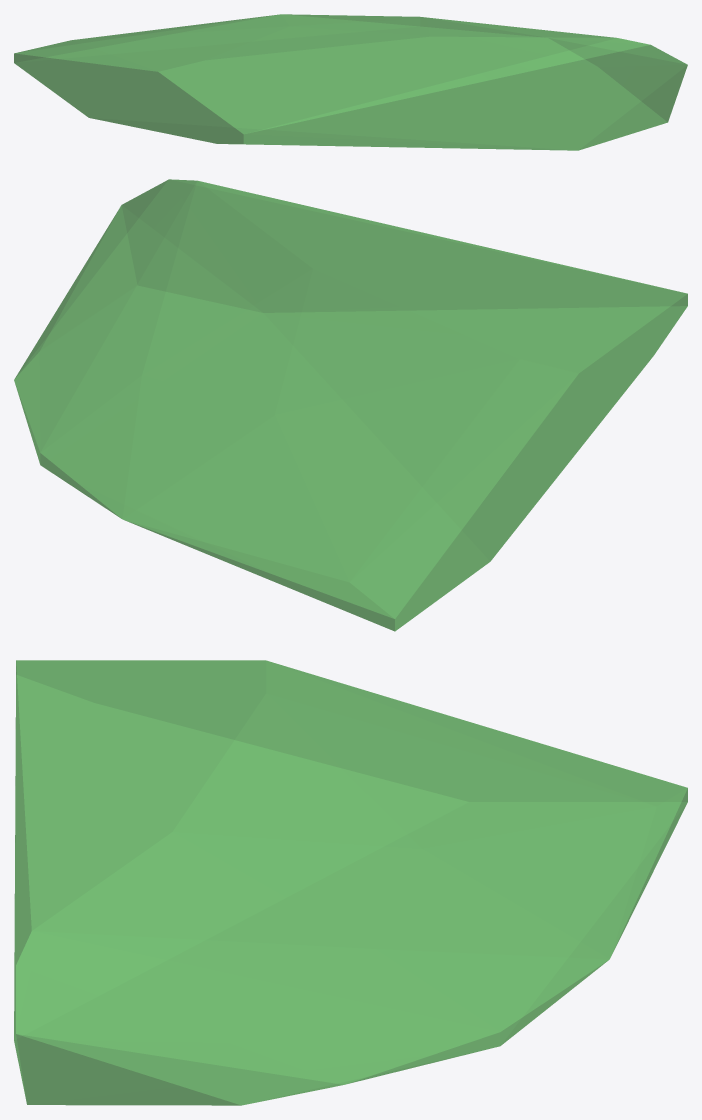
3 renders of one model, top to bottom at view 1: azimuth 30°, elevation 25°; view 2: azimuth 150°, elevation 25°; view 3: azimuth 270°, elevation 25°, orthographic. The views are drawn at different scales.
Parts seen in each view (by area): view 1: Shape_IndexedFaceSet.091_Shape_IndexedFaceSet.520; view 2: Shape_IndexedFaceSet.091_Shape_IndexedFaceSet.520; view 3: Shape_IndexedFaceSet.091_Shape_IndexedFaceSet.520.
Part boxes in pixels (x1,y1,x2,y2): Shape_IndexedFaceSet.091_Shape_IndexedFaceSet.520: (14,14,687,150); Shape_IndexedFaceSet.091_Shape_IndexedFaceSet.520: (14,179,687,631); Shape_IndexedFaceSet.091_Shape_IndexedFaceSet.520: (14,660,687,1105).
Bounding box in the file's own units: 0.2035 × 0.0425 × 0.1829.
